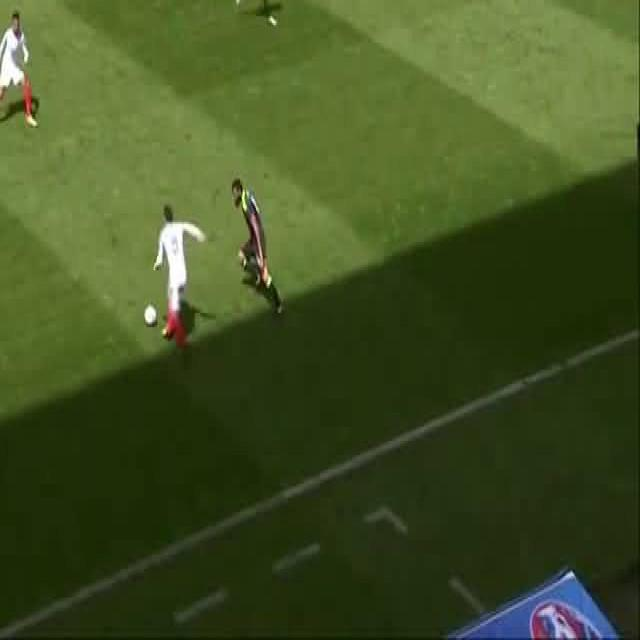ball: (144, 305, 156, 326)
player-white: (152, 204, 204, 347), (232, 177, 282, 316), (0, 10, 37, 130), (236, 0, 277, 25)
